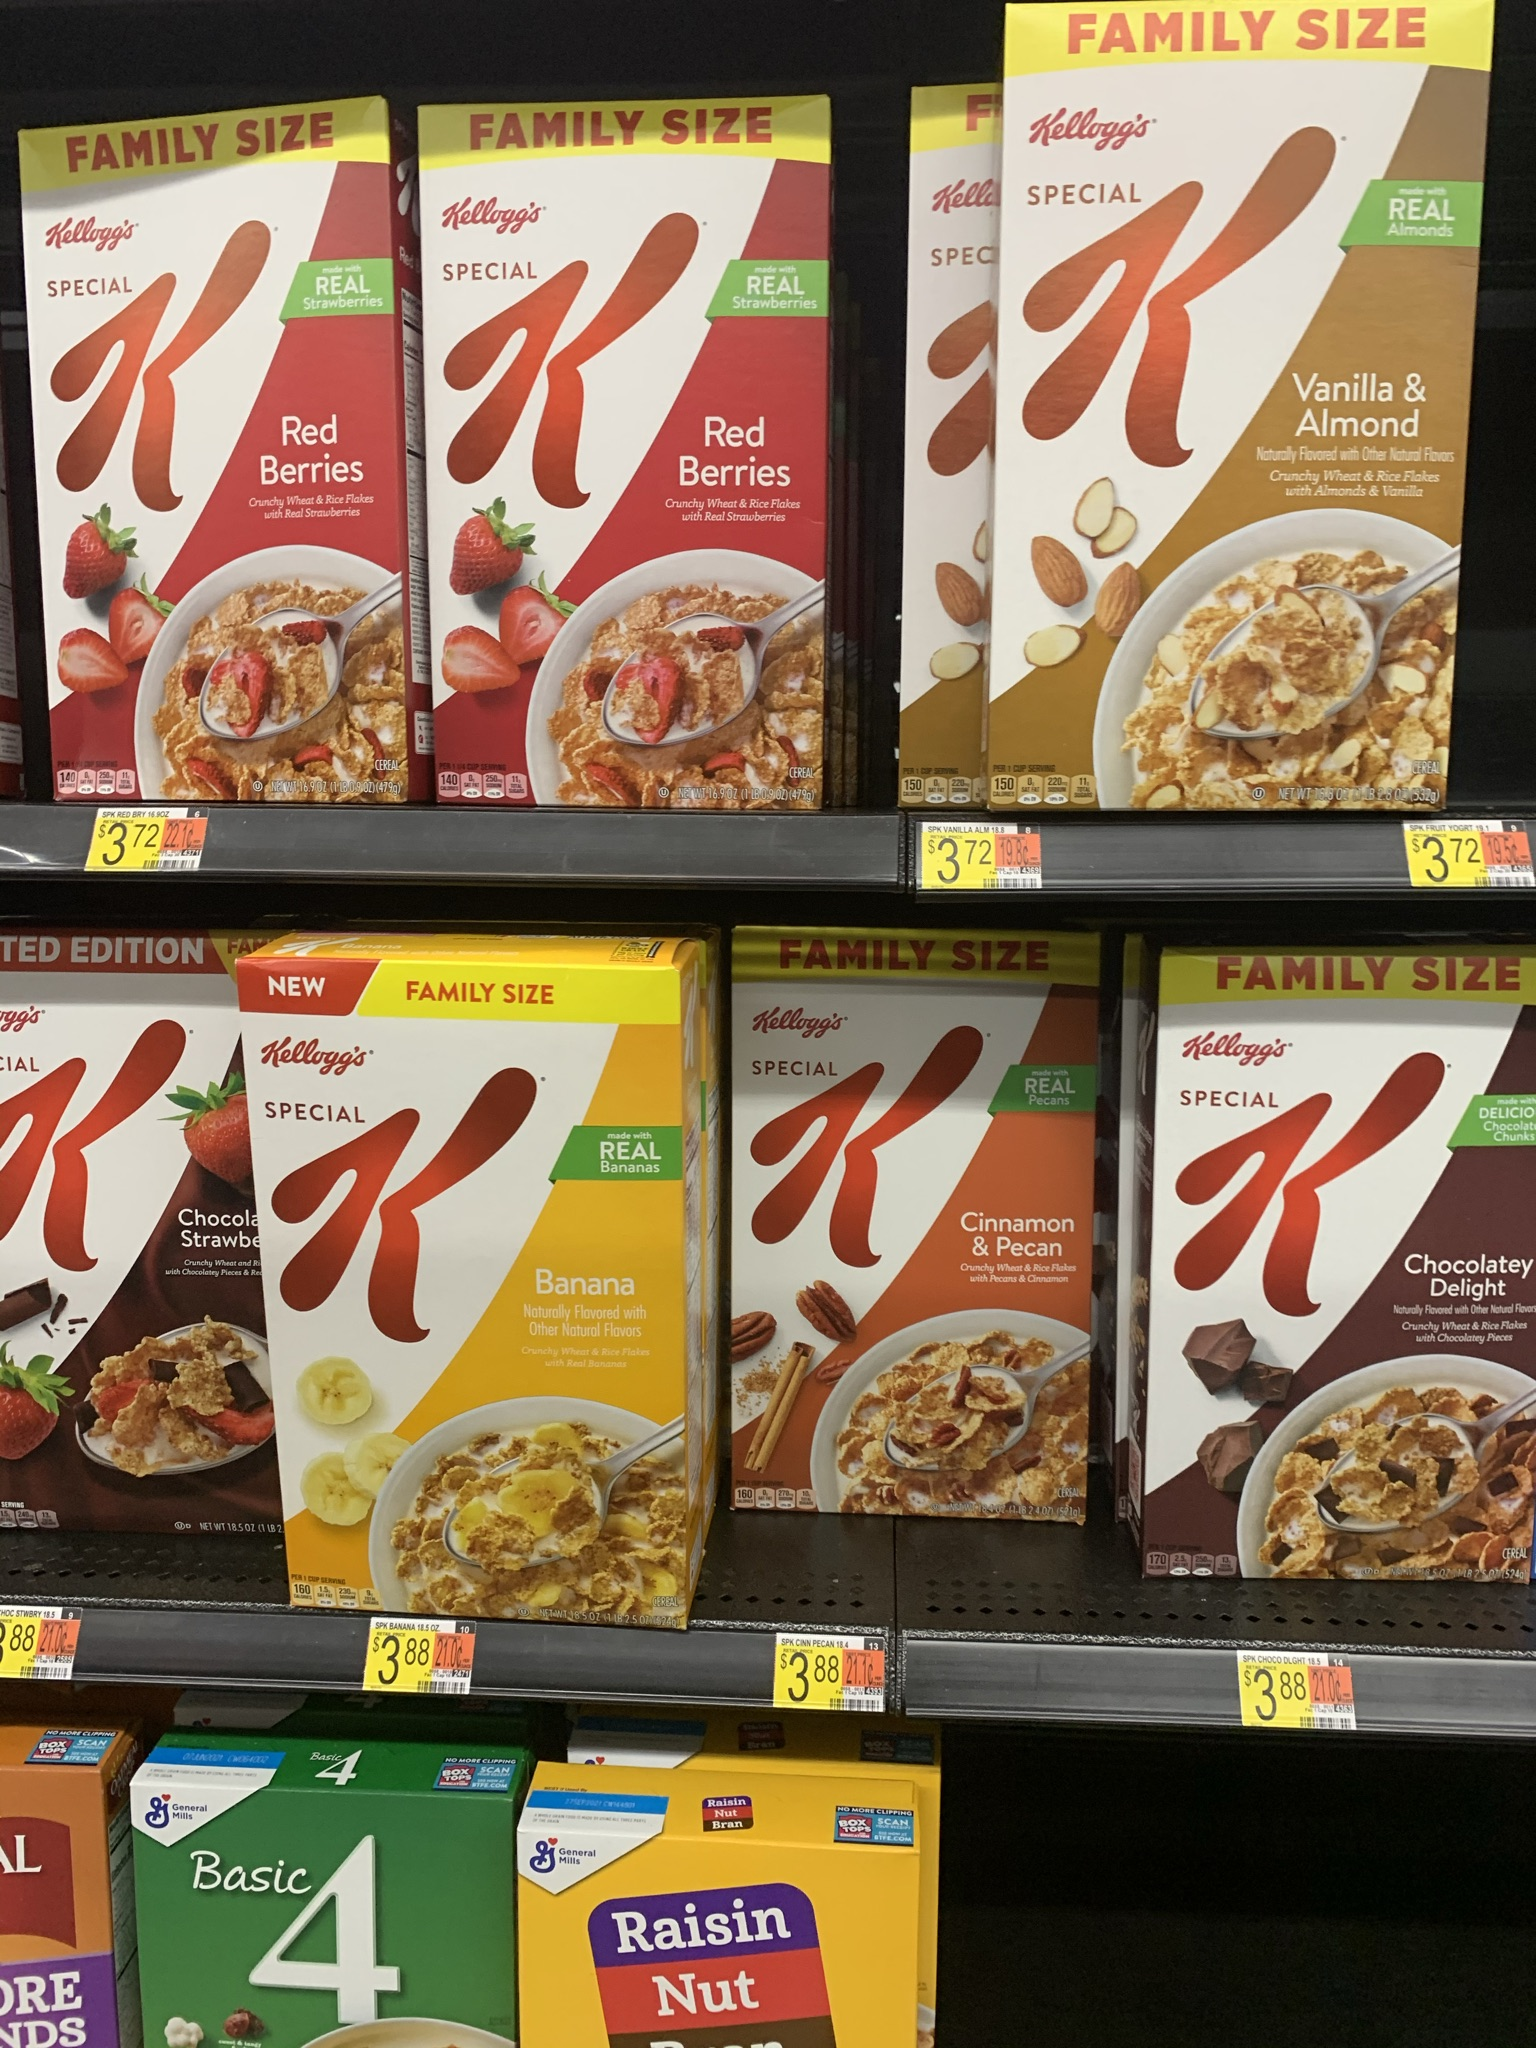box: (1012, 21, 1436, 810), (281, 964, 665, 1614), (449, 123, 812, 806), (34, 142, 402, 789), (1178, 1035, 1536, 1576), (744, 1001, 1100, 1506), (2, 947, 229, 1530), (155, 1796, 500, 2048)
